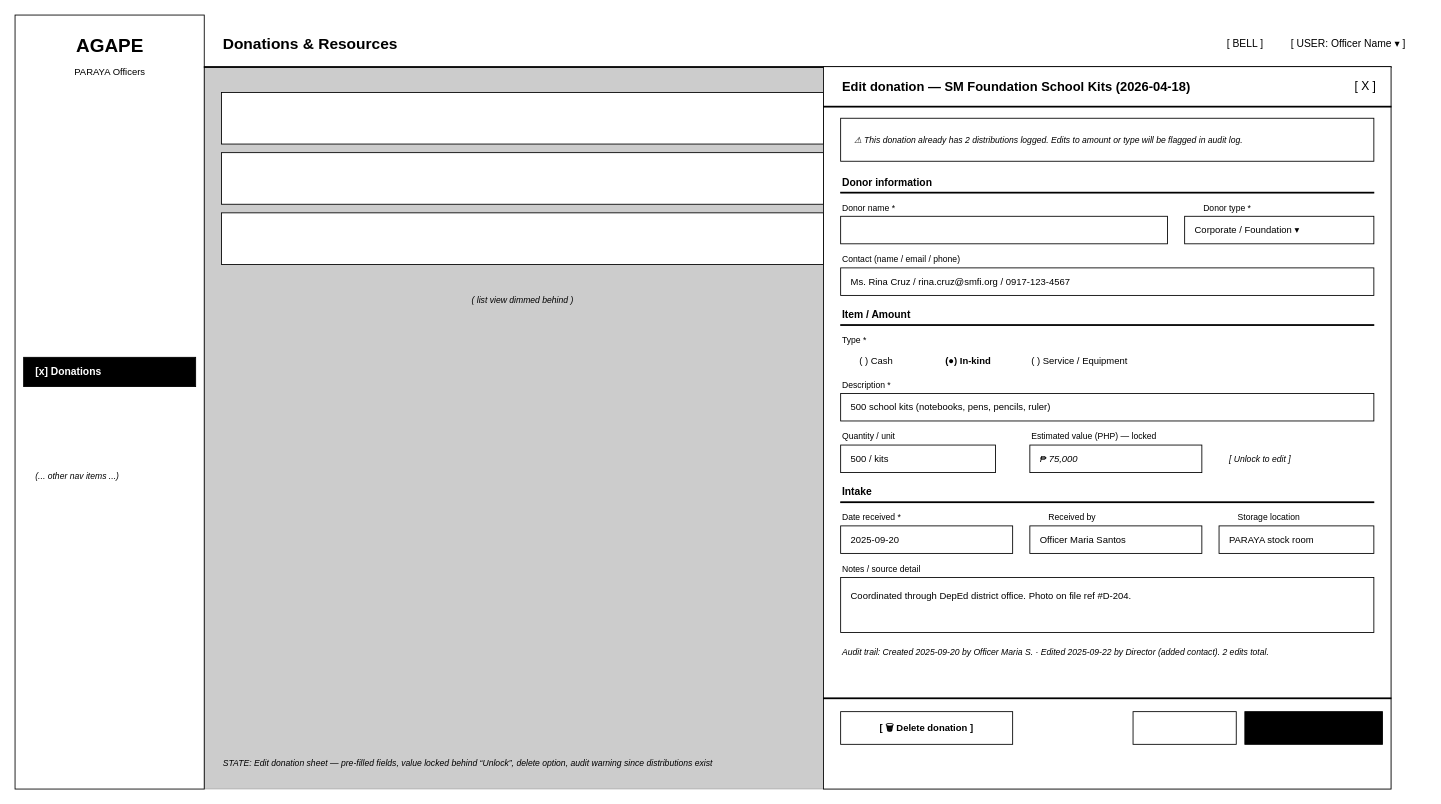
The diagram is 1441 pixels wide and 804 high, and some of its shapes have lost their labels. The centre of each missing label's shape, as x and y in pixels:
[ Cancel ]: (x=1184, y=727)
[ Save changes ]: (x=1313, y=727)
SM Foundation Inc.: (x=1003, y=229)
